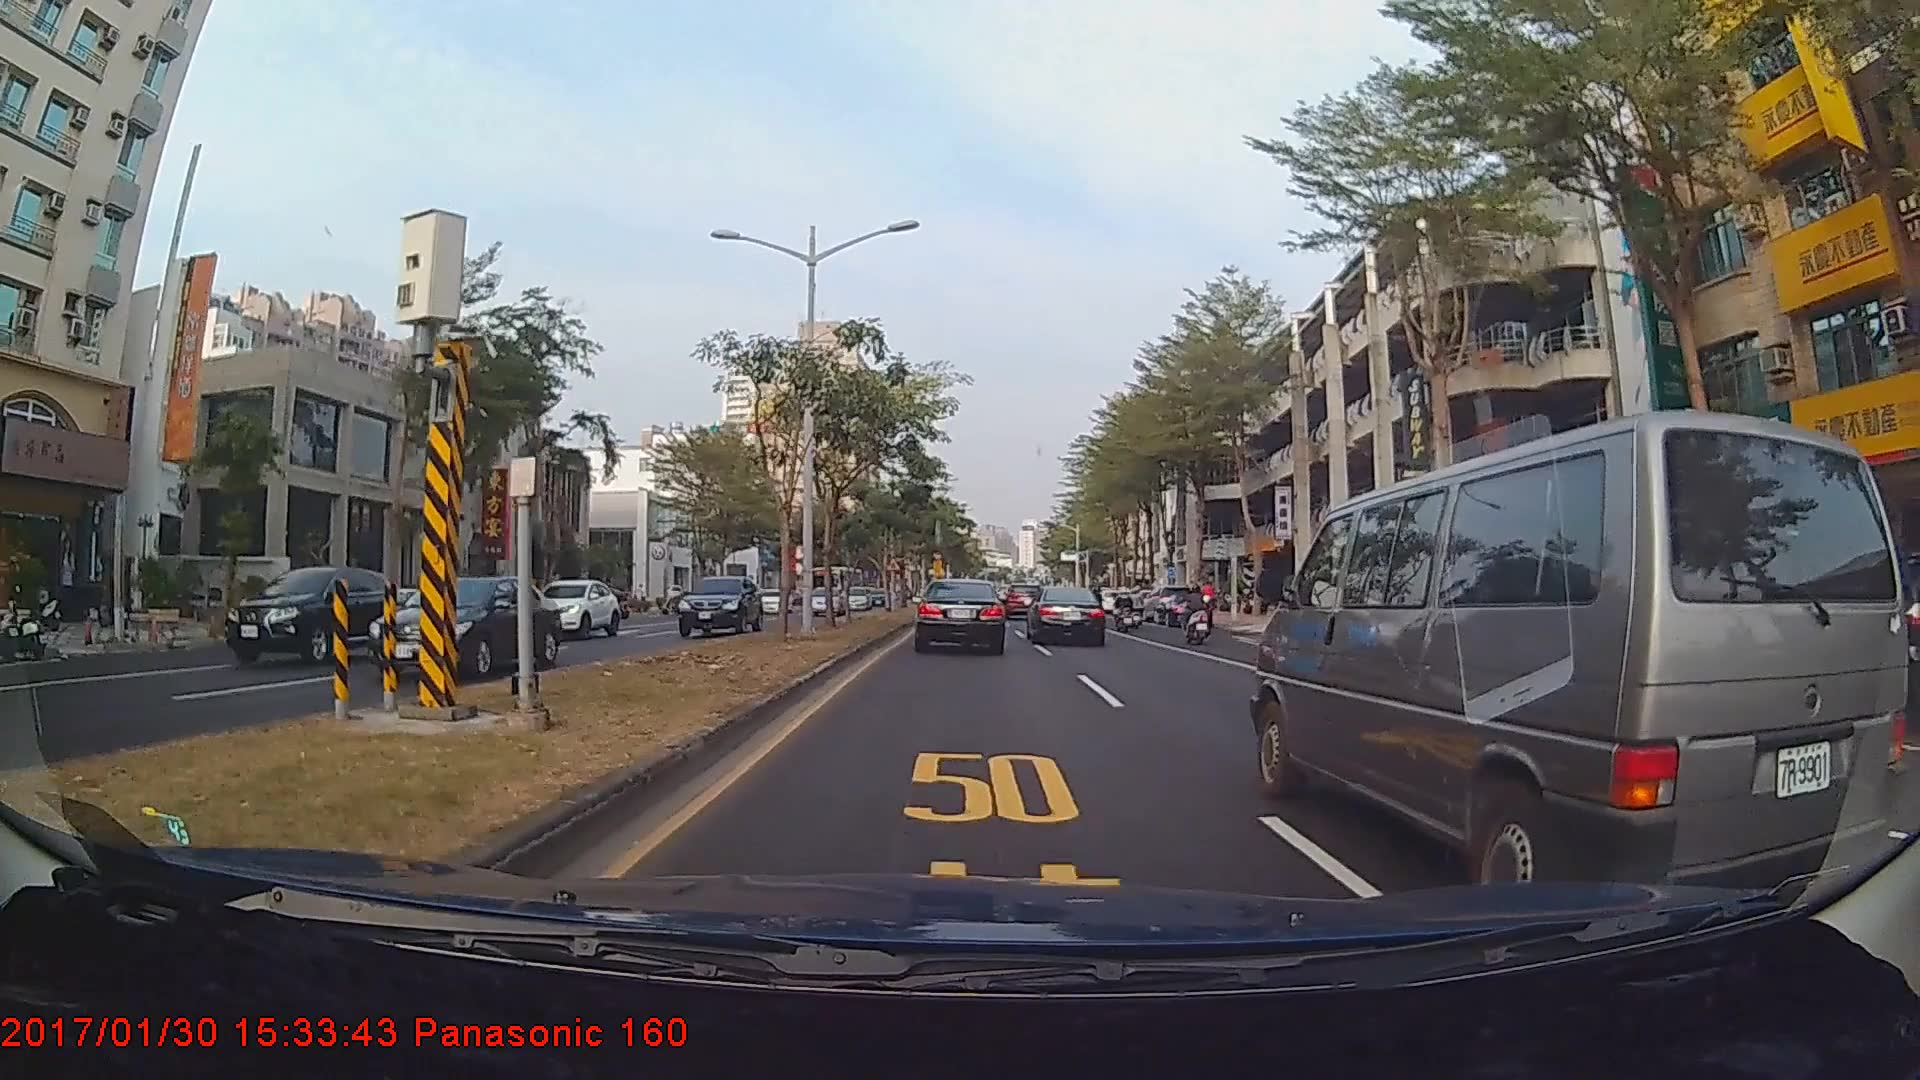rider: (1173, 580, 1218, 644)
vehicle: (1248, 400, 1889, 906), (366, 572, 568, 684), (221, 563, 404, 667), (915, 576, 1005, 653), (524, 578, 621, 639), (676, 574, 762, 636), (1027, 585, 1106, 647), (1148, 593, 1211, 629), (1003, 578, 1042, 613), (747, 585, 793, 613), (806, 586, 846, 616)
